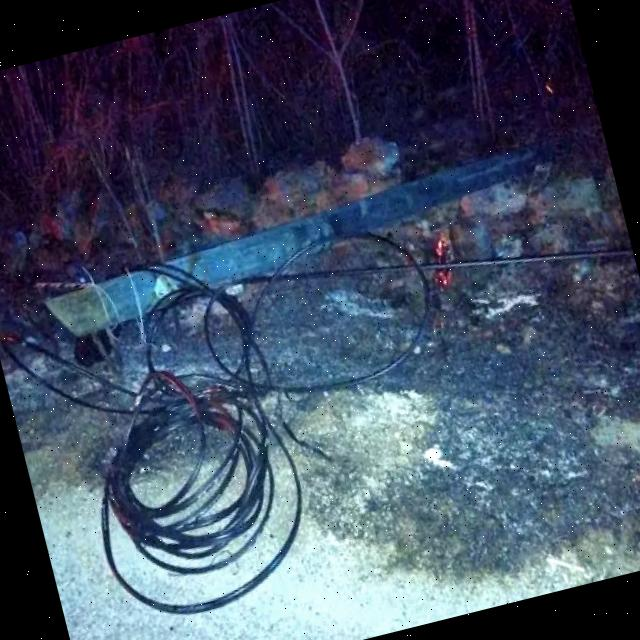Broken Pole: (42, 138, 534, 332)
